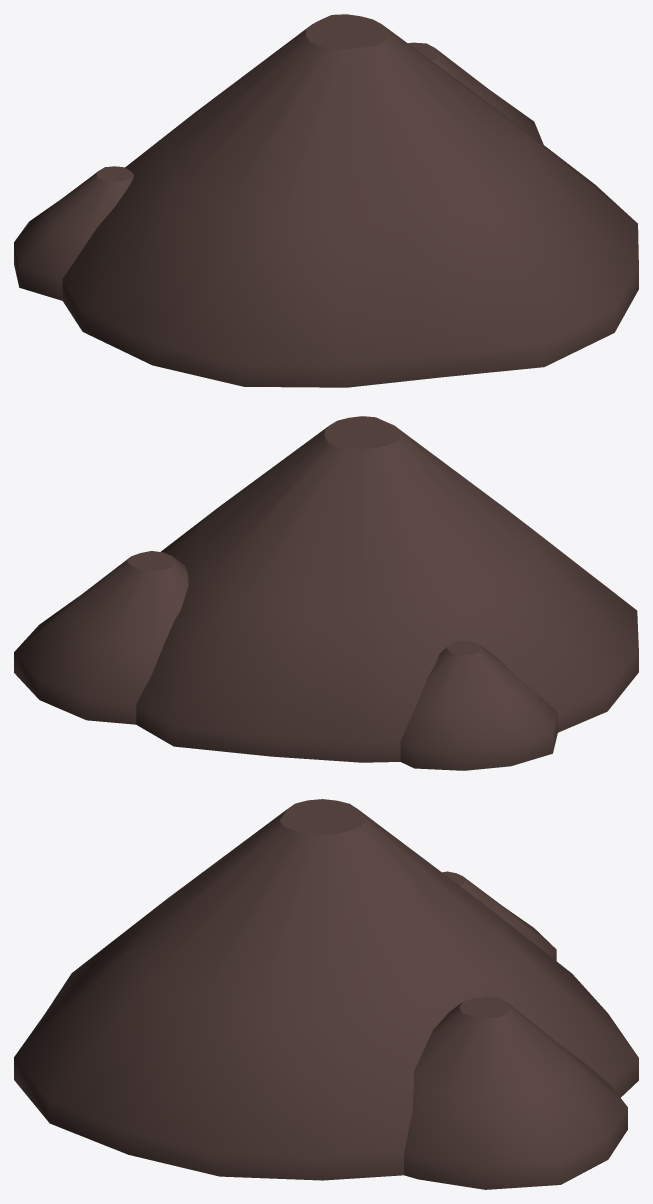
File: site_stockpile2.fbx
The picture shows the model from 3 angles, top to bottom: view 1: azimuth 30°, elevation 25°; view 2: azimuth 150°, elevation 25°; view 3: azimuth 270°, elevation 25°; orthographic projection. The views are drawn at different scales.
Visible parts, largest first — view 1: a1022/0/site_stockpile2; view 2: a1022/0/site_stockpile2; view 3: a1022/0/site_stockpile2.
Boxes of the visible parts, <box> form: a1022/0/site_stockpile2: <box>14,14,638,387</box>; a1022/0/site_stockpile2: <box>14,416,638,770</box>; a1022/0/site_stockpile2: <box>14,799,638,1189</box>.
Size of the model in its own units: 13.12 by 5.52 by 13.06.
